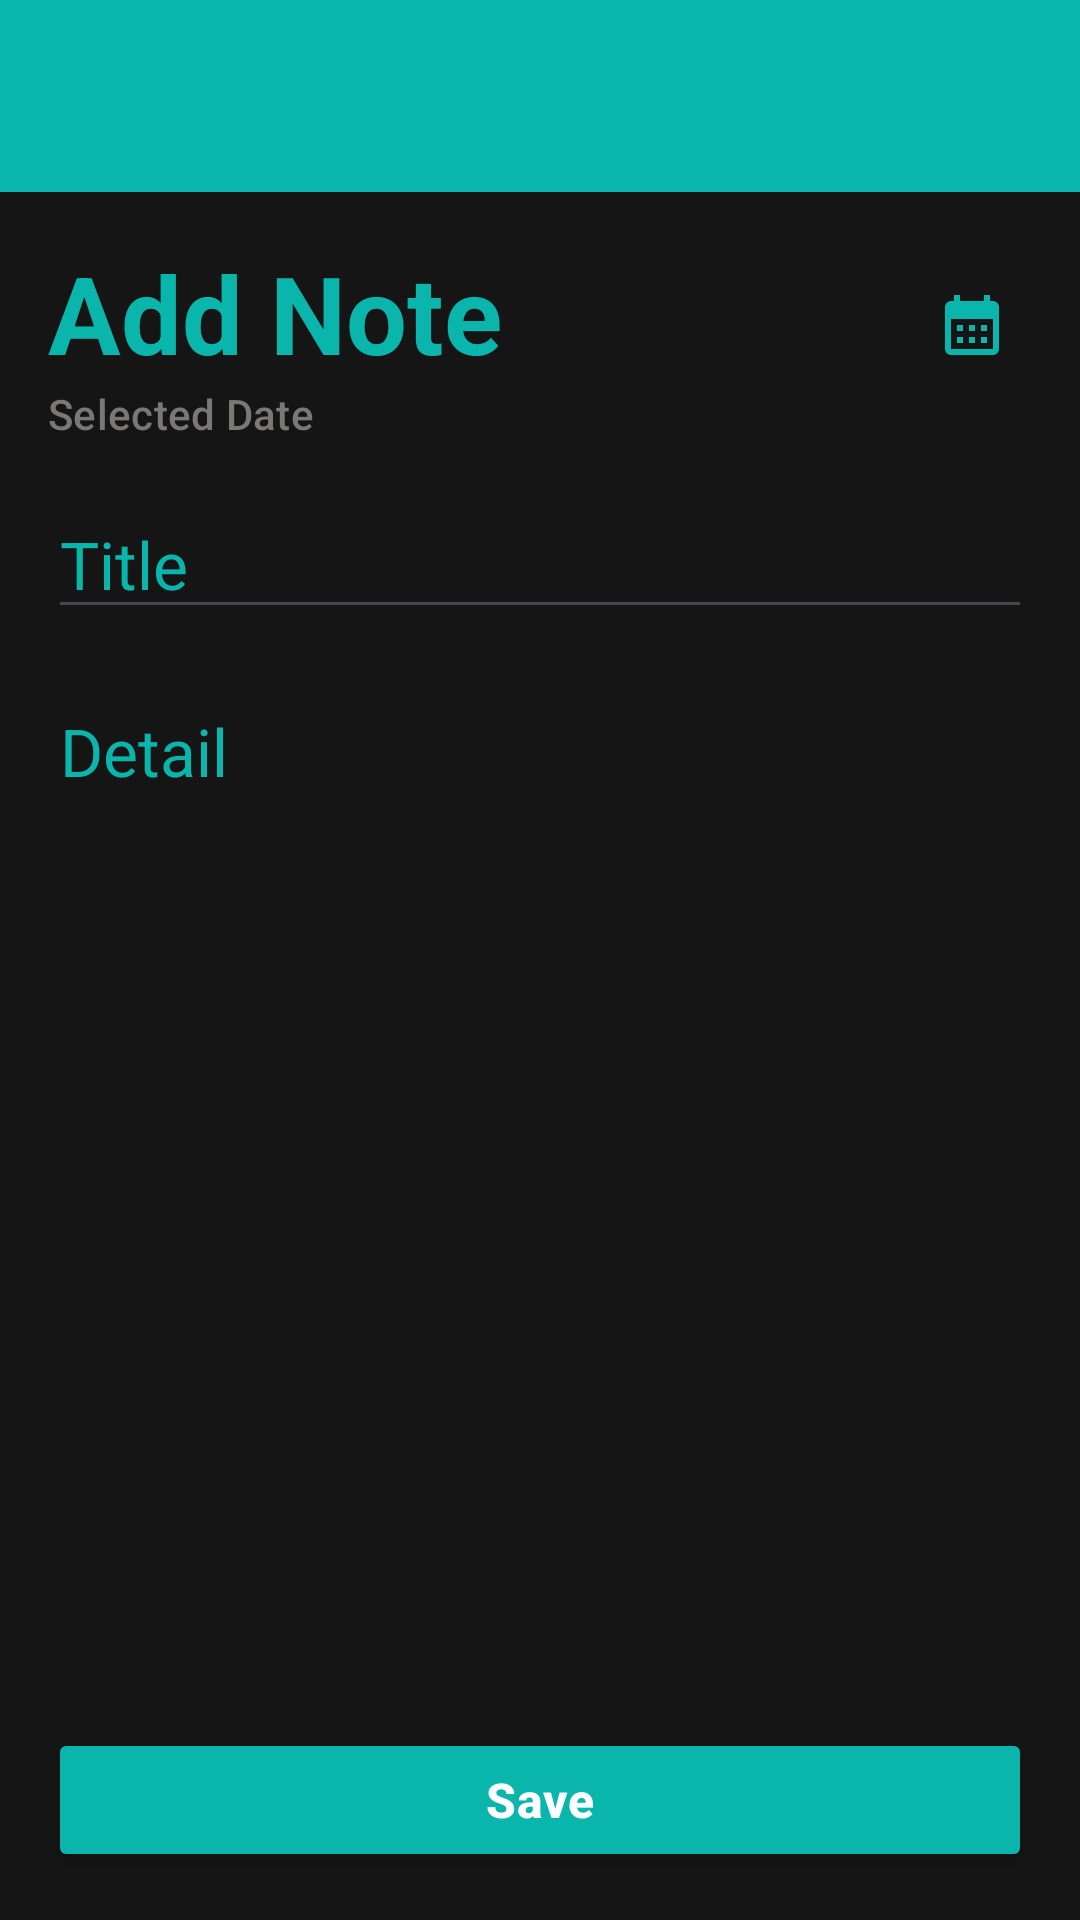

Point at icon controls on the screen. Image size 1080w x 1920h, points as (x=x, y=y).
calendar month: (x=972, y=325)
